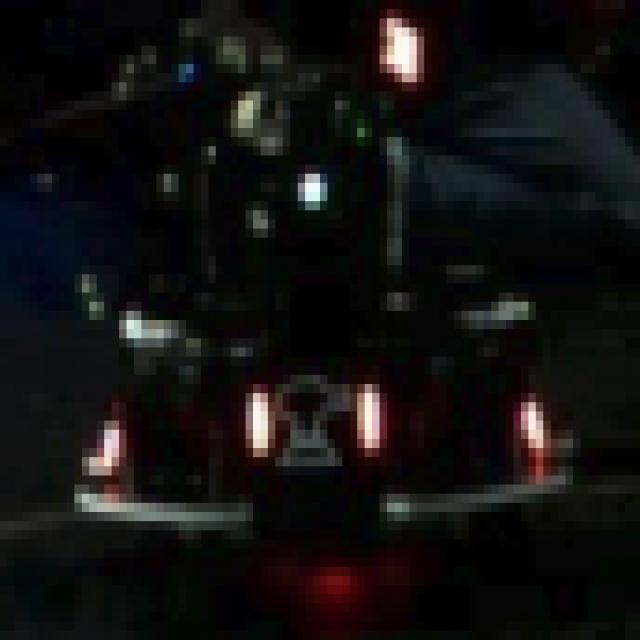Rs: (223, 366, 394, 475)
